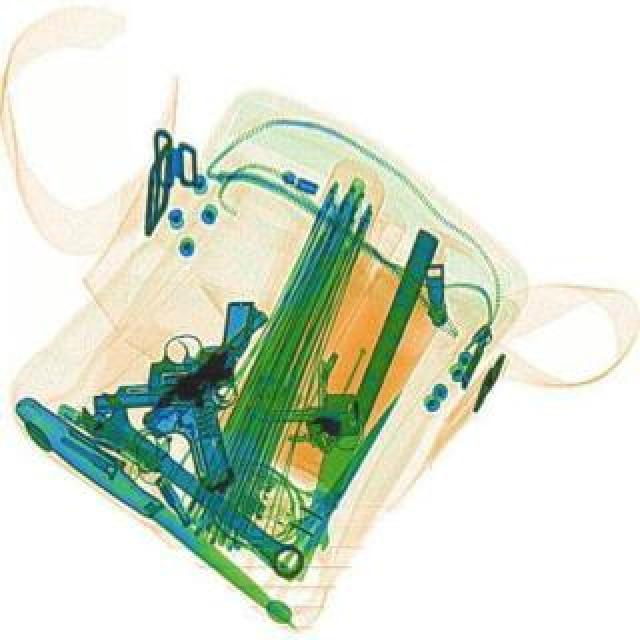gun: (138, 306, 338, 490), (86, 298, 260, 410)
knife: (6, 386, 310, 634), (268, 220, 436, 582), (274, 384, 418, 580)
scissors: (70, 384, 318, 584)
